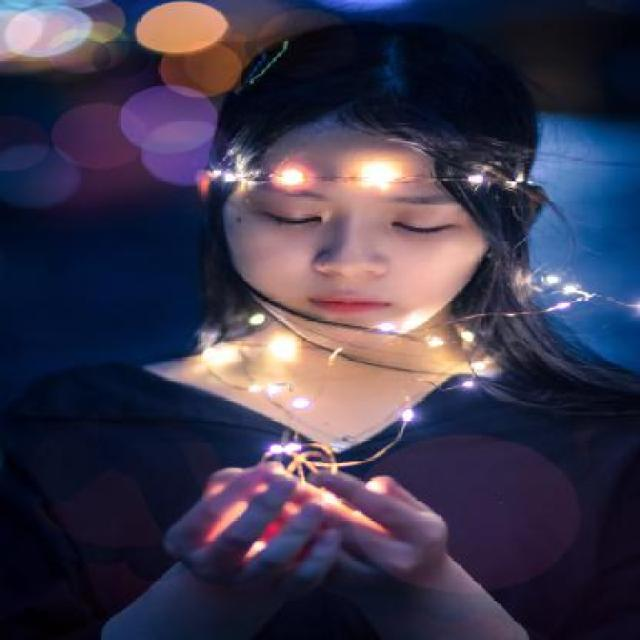closed-mouth: (302, 288, 396, 318)
